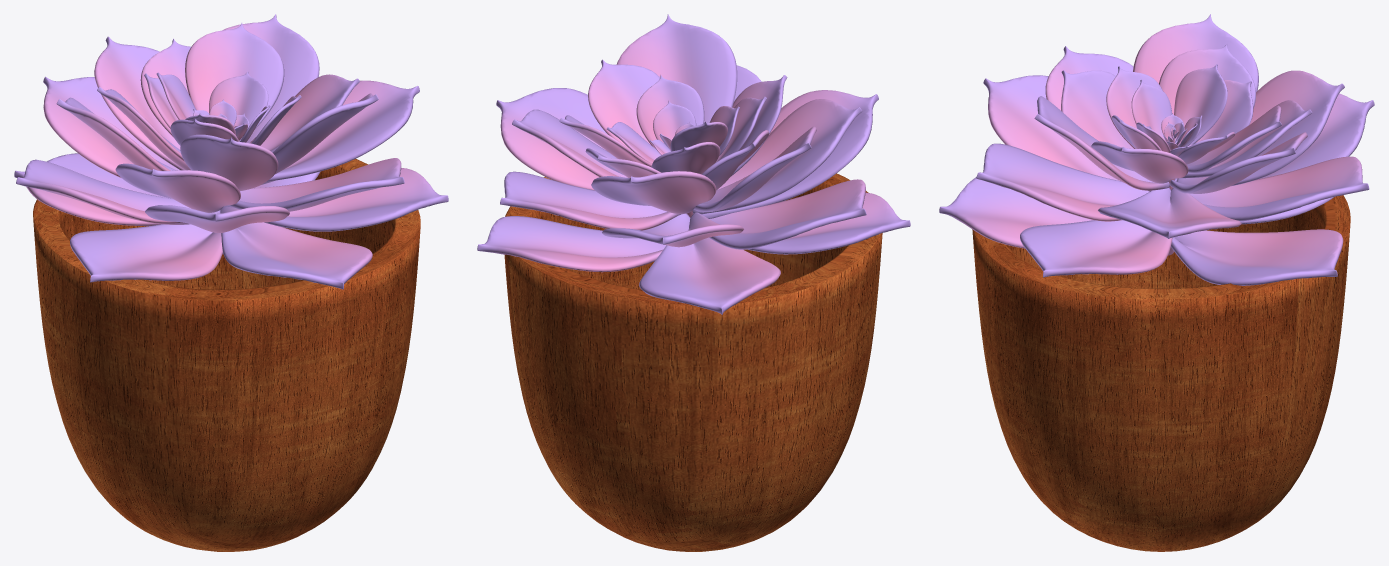
Rendered from PERLE_VON_NERNBERG_WOODEN_POT.glb.
The picture shows the model from 3 angles, left to right: view 1: azimuth 30°, elevation 25°; view 2: azimuth 150°, elevation 25°; view 3: azimuth 270°, elevation 25°; orthographic projection.
Parts seen in each view (by area): view 1: Cube, Vase 2; view 2: Cube, Vase 2; view 3: Cube, Vase 2.
Boxes of the visible parts, x1,y1,x2,y2 form: Cube: (33,159,420,551); Vase 2: (14,14,448,289); Cube: (504,173,882,551); Vase 2: (477,14,910,314); Cube: (972,195,1350,551); Vase 2: (939,14,1374,285).
Size of the model in its own units: 1.09 by 1.24 by 1.06.
Materials: 2 (2 with a texture image).
